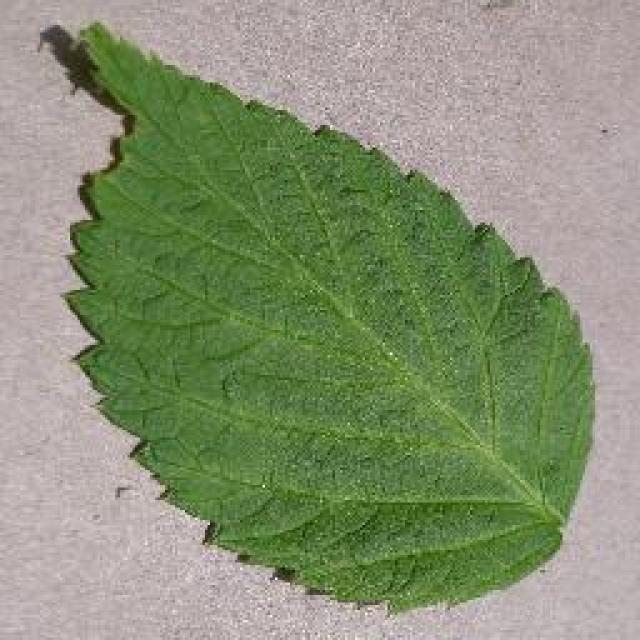Ras_healthy: (56, 118, 595, 591)
